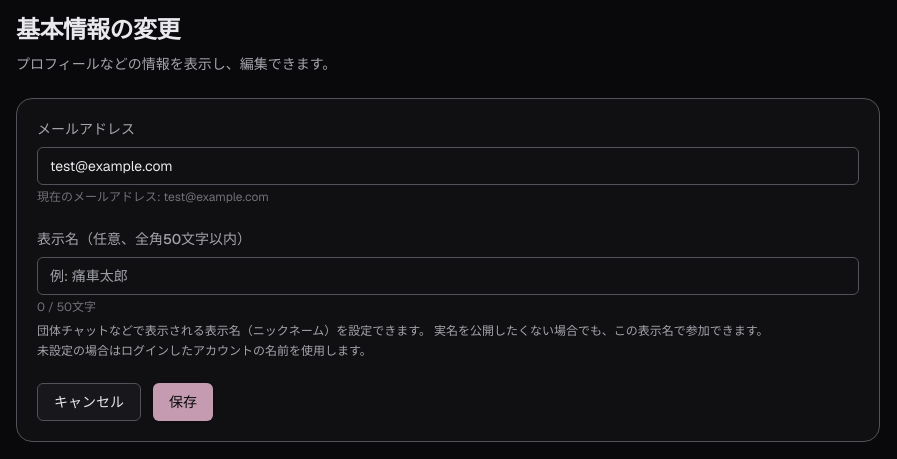
ProfileEditPage › 文字数カウンターを表示する
Step 1. Type "テスト" into the field labelled "表示名（任意、全角50文字以内）" → (448, 276), box [37,257,859,295]
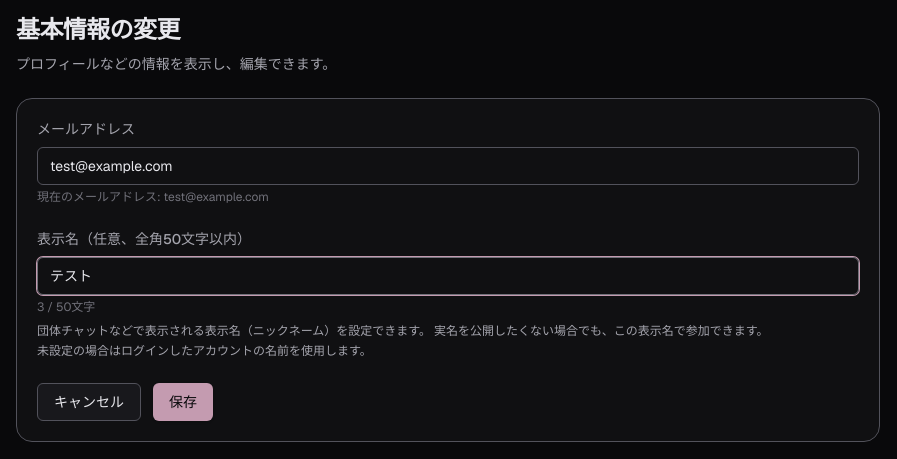
Expected: the text "3 / 50文字" is shown, [37,299,95,315]
